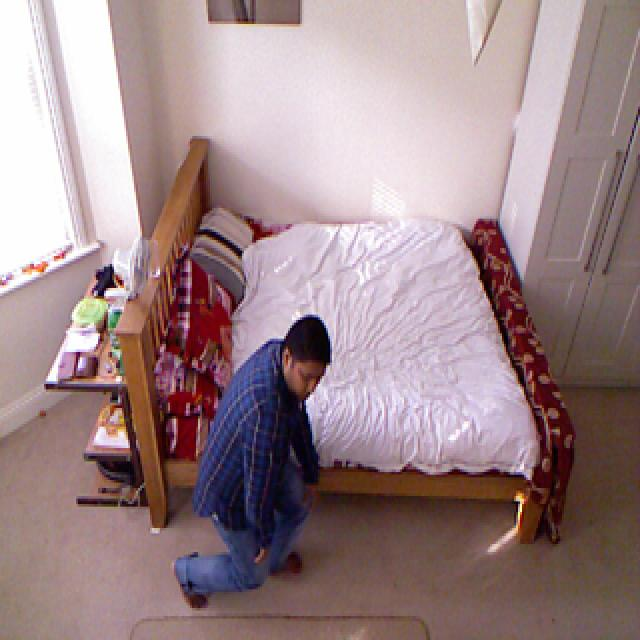crawling: (160, 314, 363, 620)
